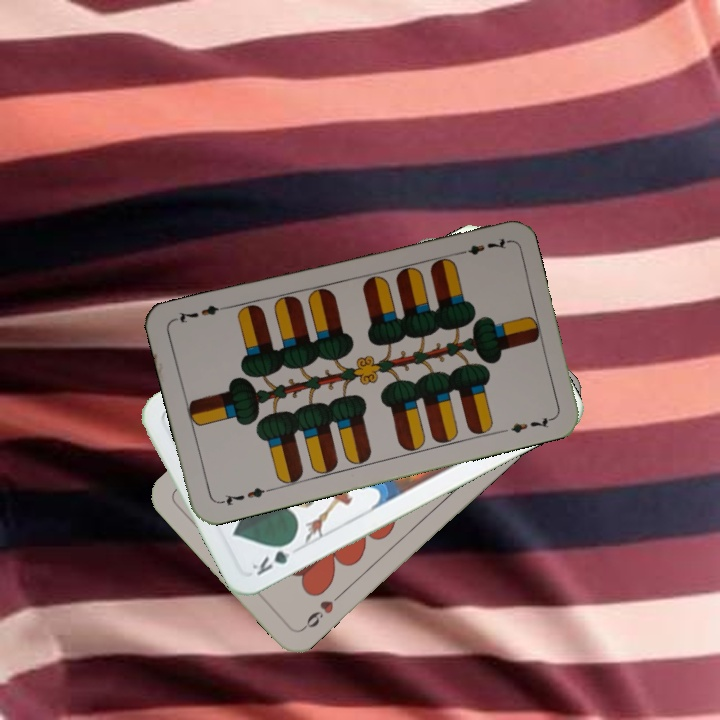E7: (452, 233, 510, 259), (215, 483, 273, 508)
GK: (248, 536, 298, 579)
H9: (298, 588, 345, 633)
